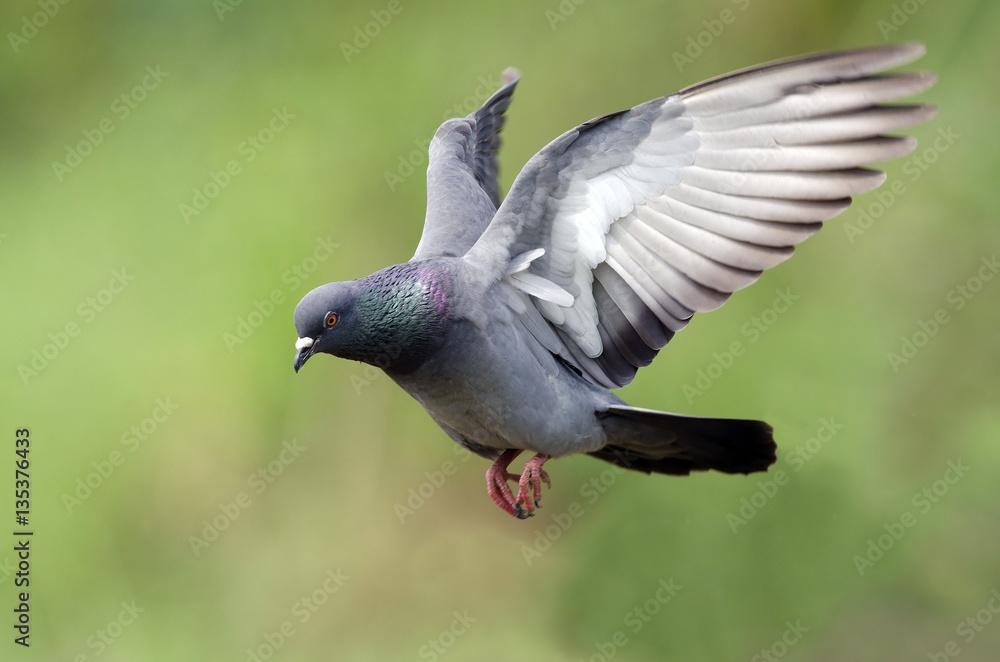Flying Rat: (292, 44, 936, 525)
